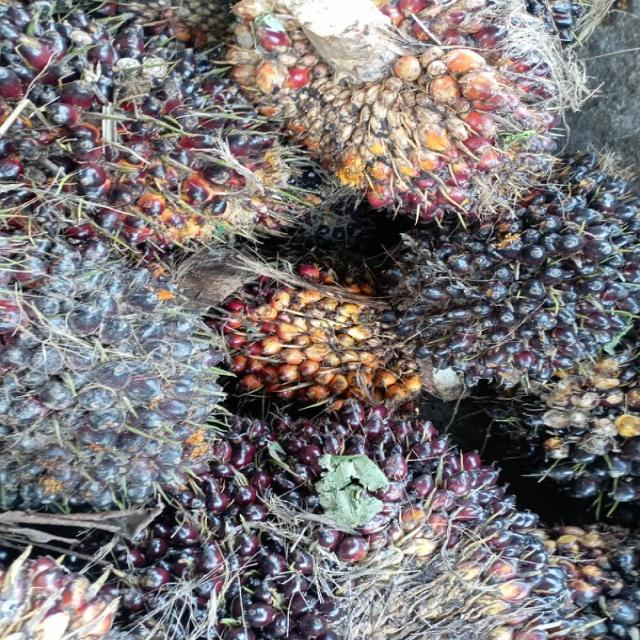fraksi 1: (207, 0, 606, 236)
